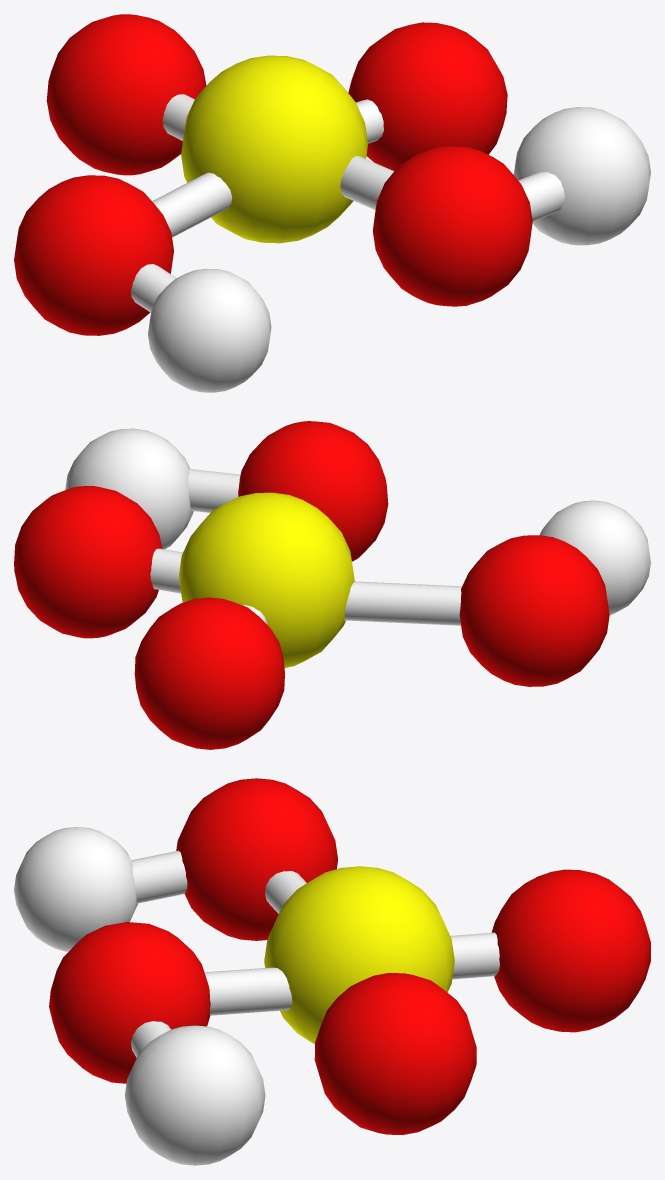
3 views of the same model, one above another, from view 1: azimuth 30°, elevation 25°; view 2: azimuth 150°, elevation 25°; view 3: azimuth 270°, elevation 25° (orthographic). The views are drawn at different scales.
Parts seen in each view (by area): view 1: sphere, sphere2, sphere5, sphere4, sphere3, sphere1, sphere6, cylinder4, cylinder, cylinder1, cylinder5, cylinder3 (+1 smaller); view 2: sphere, sphere4, sphere5, sphere3, sphere2, sphere1, sphere6, cylinder4, cylinder1, cylinder2; view 3: sphere3, sphere4, sphere, sphere5, sphere2, sphere1, sphere6, cylinder, cylinder5, cylinder3, cylinder4, cylinder1.
Part boxes in pixels (bbox=[...]): sphere: bbox=[181, 55, 367, 243]; sphere2: bbox=[373, 146, 532, 306]; sphere5: bbox=[14, 175, 173, 335]; sphere4: bbox=[46, 14, 206, 175]; sphere3: bbox=[348, 22, 507, 170]; sphere1: bbox=[513, 107, 650, 245]; sphere6: bbox=[148, 268, 271, 392]; cylinder4: bbox=[152, 172, 232, 237]; cylinder: bbox=[340, 156, 394, 209]; cylinder1: bbox=[518, 172, 564, 221]; cylinder5: bbox=[131, 264, 176, 312]; cylinder3: bbox=[162, 94, 194, 140]; sphere: bbox=[179, 492, 354, 667]; sphere4: bbox=[134, 597, 284, 749]; sphere5: bbox=[459, 535, 609, 686]; sphere3: bbox=[14, 486, 162, 638]; sphere2: bbox=[238, 421, 388, 561]; sphere1: bbox=[65, 428, 193, 549]; sphere6: bbox=[539, 500, 650, 615]; cylinder4: bbox=[344, 581, 461, 625]; cylinder1: bbox=[188, 469, 240, 512]; cylinder2: bbox=[150, 548, 182, 593]; sphere3: bbox=[314, 973, 476, 1135]; sphere4: bbox=[491, 869, 650, 1032]; sphere: bbox=[264, 866, 454, 1043]; sphere5: bbox=[176, 778, 337, 940]; sphere2: bbox=[49, 922, 210, 1083]; sphere1: bbox=[125, 1025, 265, 1165]; sphere6: bbox=[14, 827, 137, 951]; cylinder: bbox=[204, 967, 292, 1015]; cylinder5: bbox=[131, 850, 187, 903]; cylinder3: bbox=[450, 932, 499, 979]; cylinder4: bbox=[265, 871, 306, 913]; cylinder1: bbox=[131, 1021, 170, 1057].
Size of the model in its own units: 108 by 30.02 by 100.
